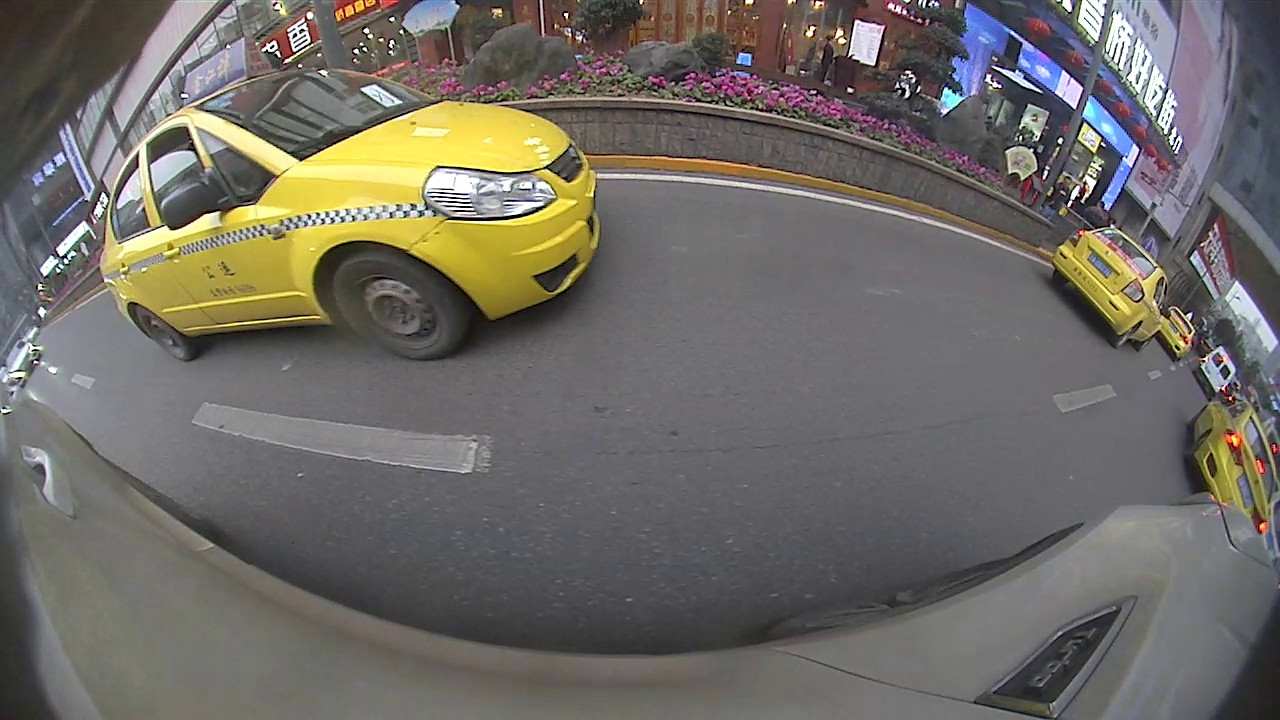car: (99, 35, 600, 362), (1050, 226, 1173, 350), (1183, 389, 1277, 536), (1193, 345, 1237, 400), (1158, 304, 1195, 363)
front: (330, 254, 463, 361)
rear: (129, 305, 191, 361), (1112, 323, 1142, 351), (1181, 432, 1210, 458)
